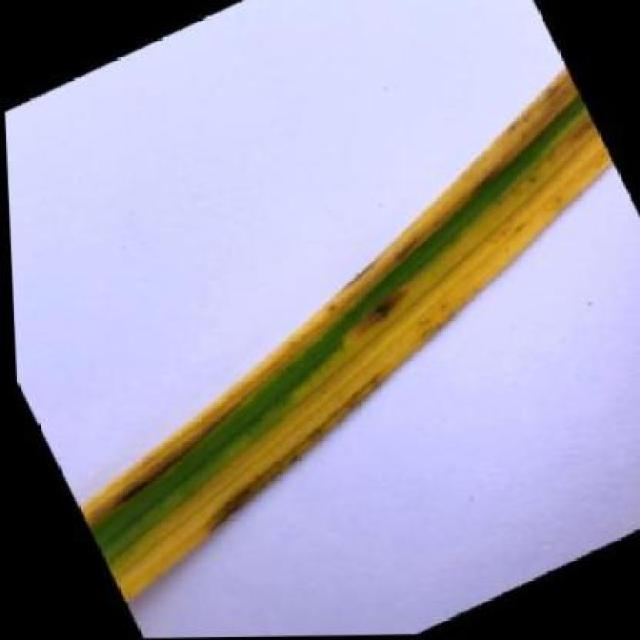Rice False Smut: (1, 64, 640, 607)
